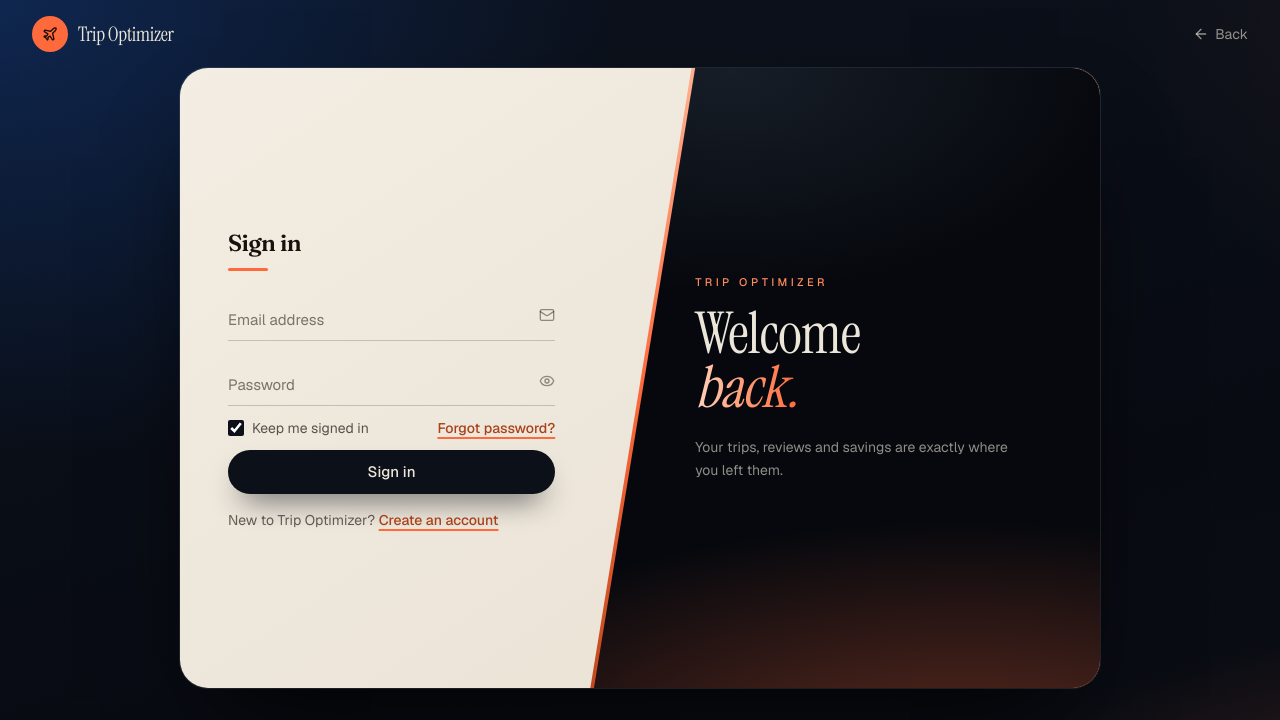
Test: AuthCard › refuses a short password before asking the server
In the field labelled "Email address": (392, 322) [228,303,555,341], type "b@example.com"
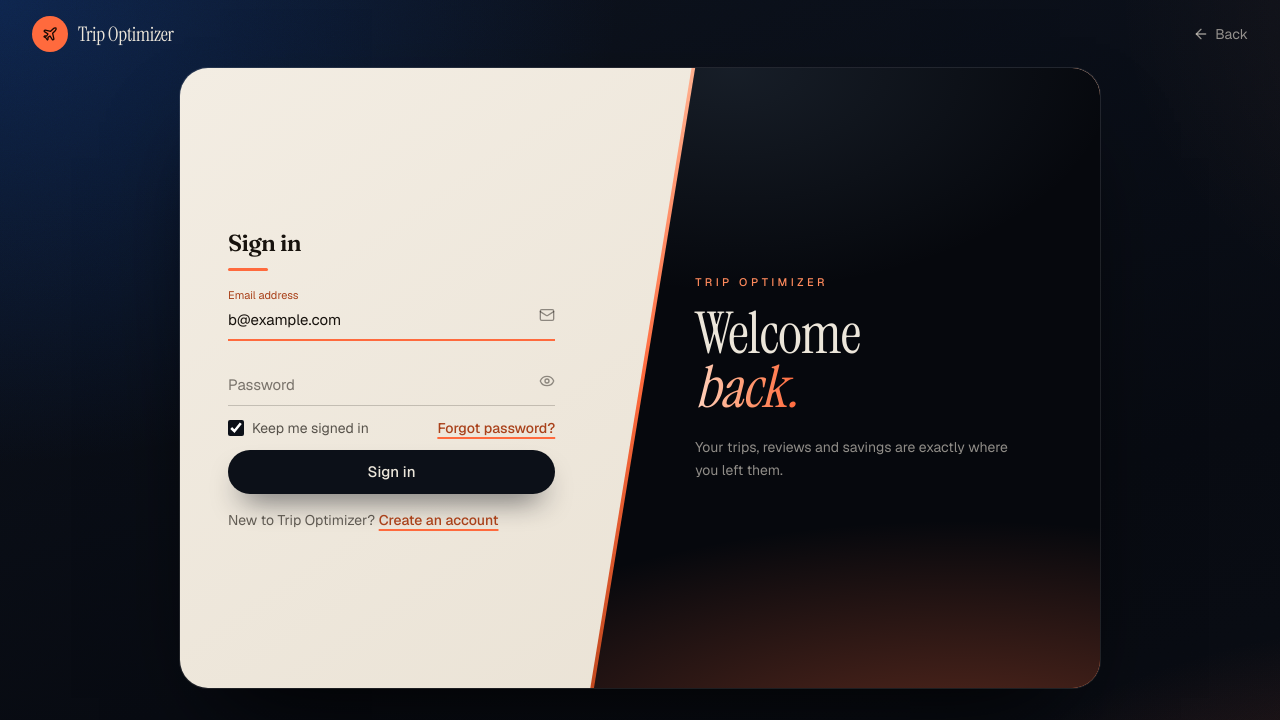
In the password field labelled "Password": (392, 388) [228,369,555,406], type "abc"
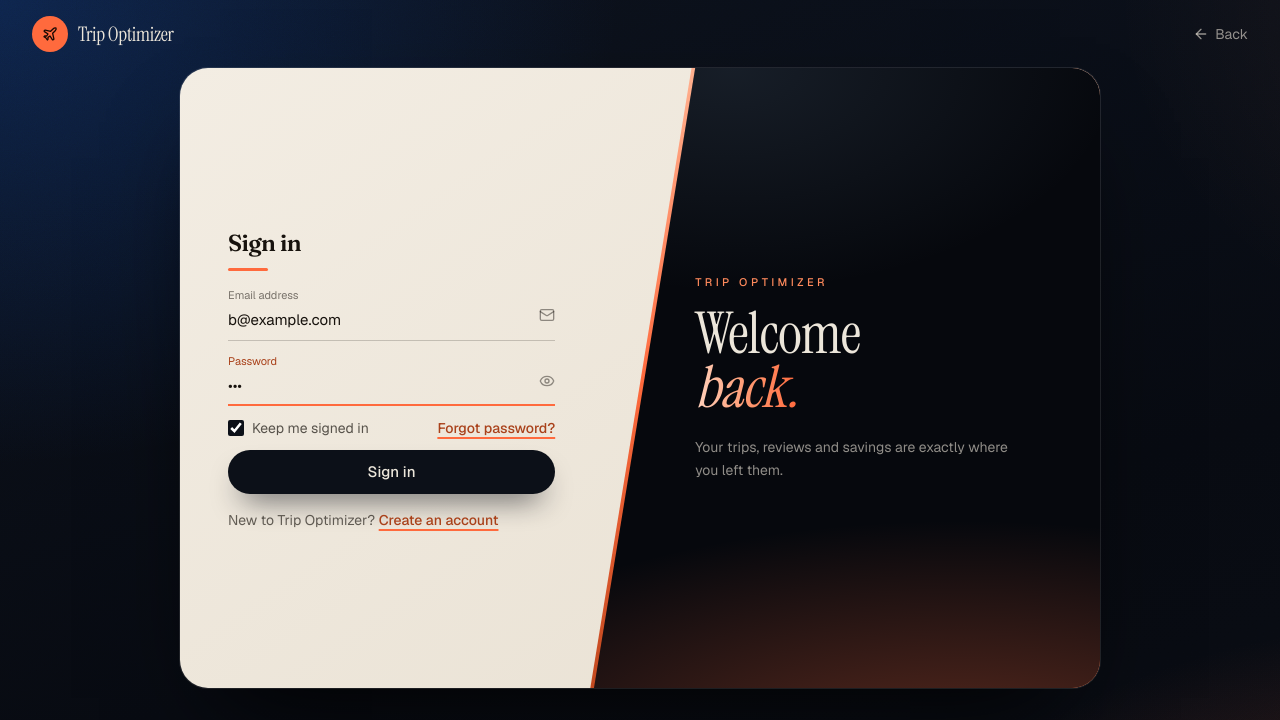
Click the button "Sign in": (392, 472) [228,450,555,494]
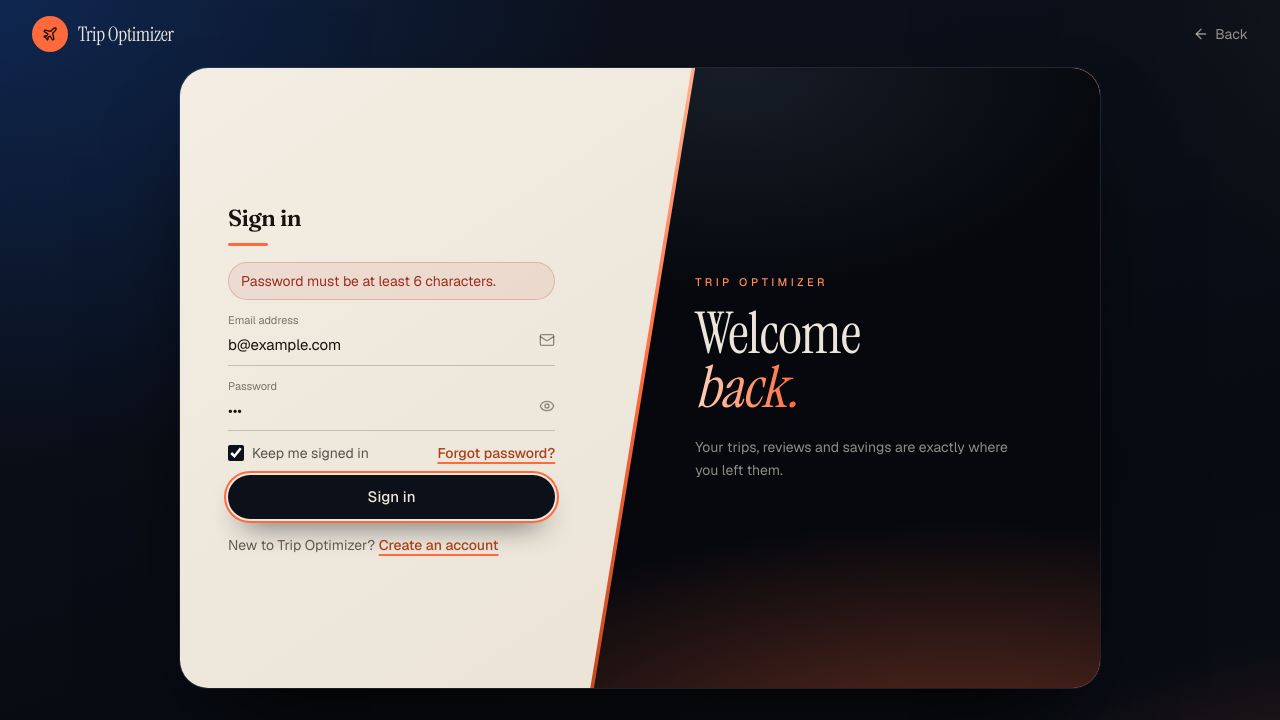
Check: the message reads "Password must be at least 6 characters.", box [241,272,496,290]
